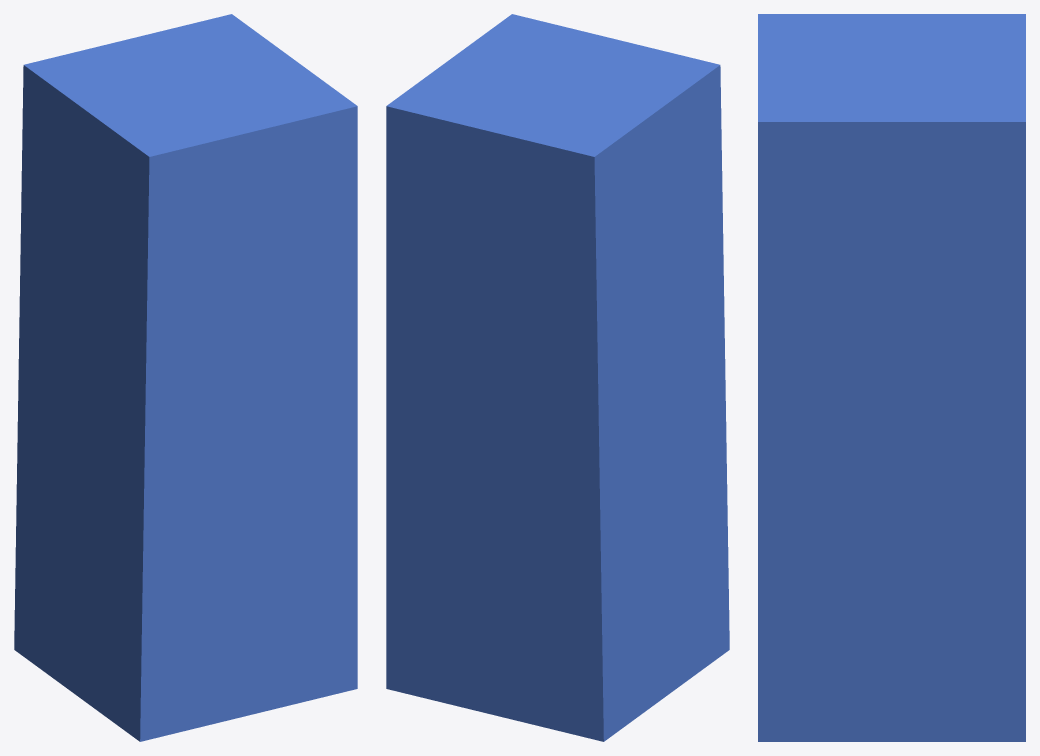
The model's file is TopPlastic_Corner_Outer_1_Collision.fbx.
3 renders of one model, left to right at view 1: azimuth 30°, elevation 25°; view 2: azimuth 150°, elevation 25°; view 3: azimuth 270°, elevation 25°, orthographic. The views are drawn at different scales.
Parts seen in each view (by area): view 1: TopPlastic_Corner_Outer_Collision; view 2: TopPlastic_Corner_Outer_Collision; view 3: TopPlastic_Corner_Outer_Collision.
Boxes of the visible parts, bbox=[...] form: TopPlastic_Corner_Outer_Collision: bbox=[14, 14, 357, 741]; TopPlastic_Corner_Outer_Collision: bbox=[386, 14, 729, 741]; TopPlastic_Corner_Outer_Collision: bbox=[758, 14, 1025, 741].
Size of the model in its own units: 59.88 by 153 by 60.
